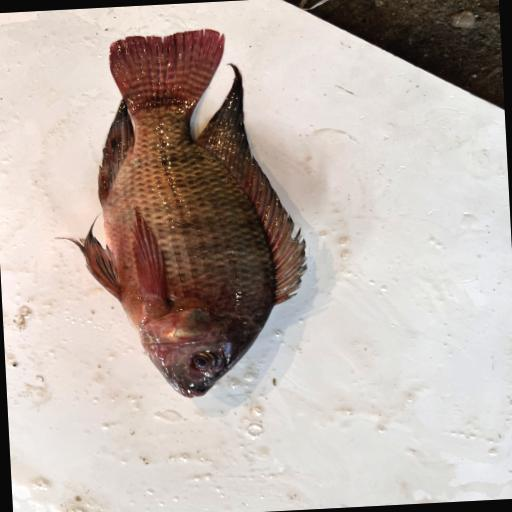Tilapia: (44, 24, 314, 405)
